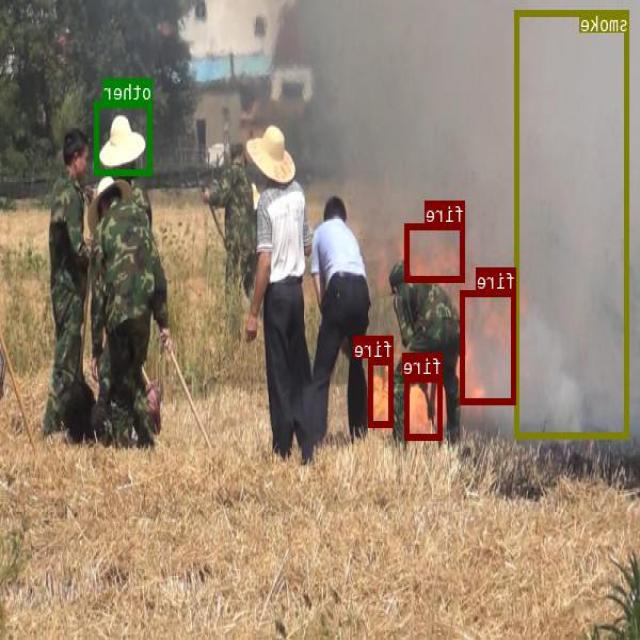fire: (462, 288, 516, 402), (405, 223, 466, 280), (406, 375, 444, 439), (369, 358, 394, 426)
other: (95, 100, 153, 174)
smoke: (516, 9, 630, 437)
